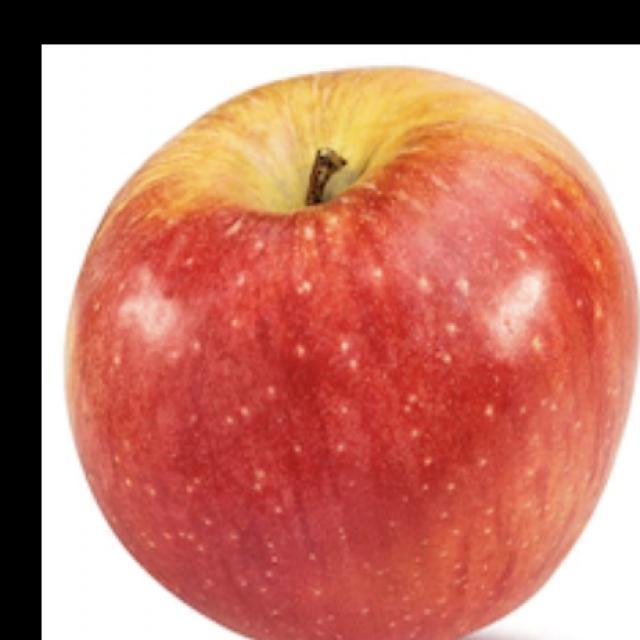Fresh Apple: (112, 89, 630, 634)
